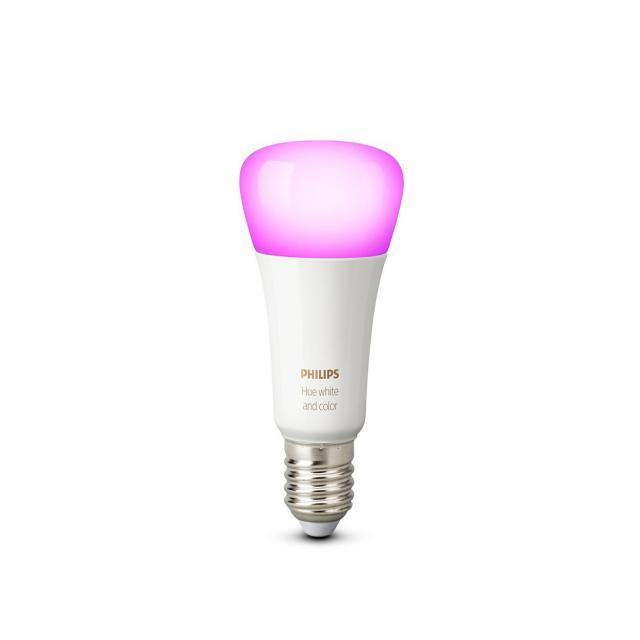light_bulb: (218, 126, 412, 550)
